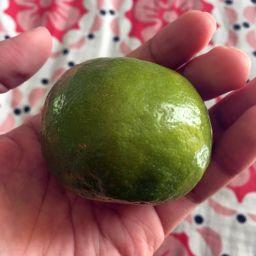Ripe: (39, 59, 213, 203)
